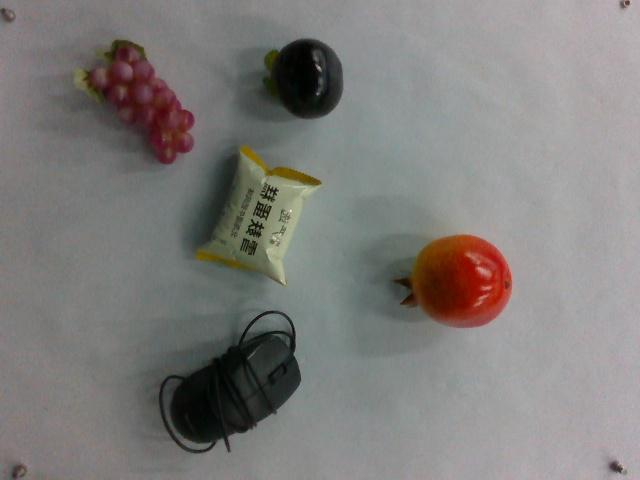dessert: (188, 148, 323, 279)
grape: (81, 33, 199, 163)
mangosteen: (256, 37, 349, 125)
mouse: (159, 313, 301, 457)
pomegranate: (403, 235, 513, 332)
